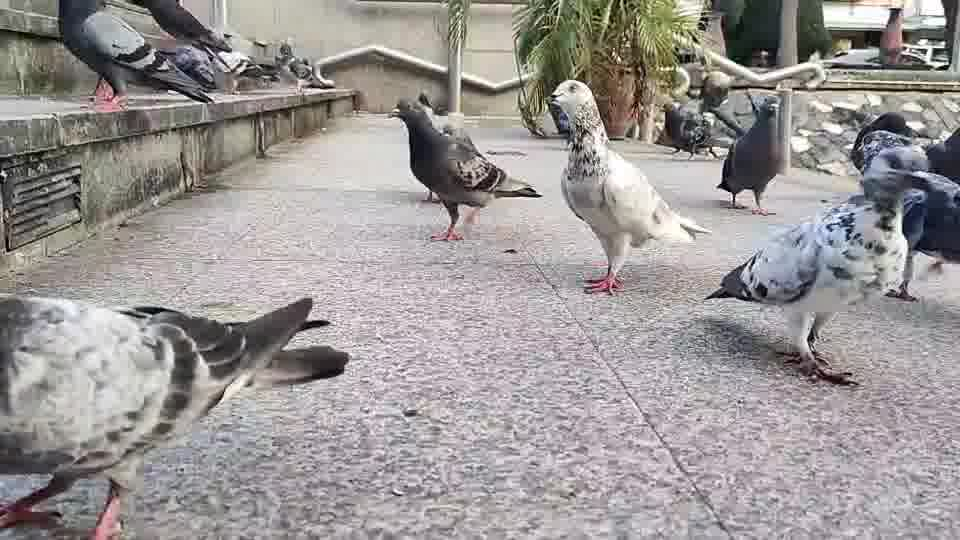Pigeon: (0, 290, 349, 539), (702, 165, 930, 386), (544, 78, 712, 295), (385, 94, 543, 241), (849, 113, 959, 301), (57, 0, 214, 112), (713, 90, 783, 215), (143, 0, 233, 54), (661, 100, 720, 160)
